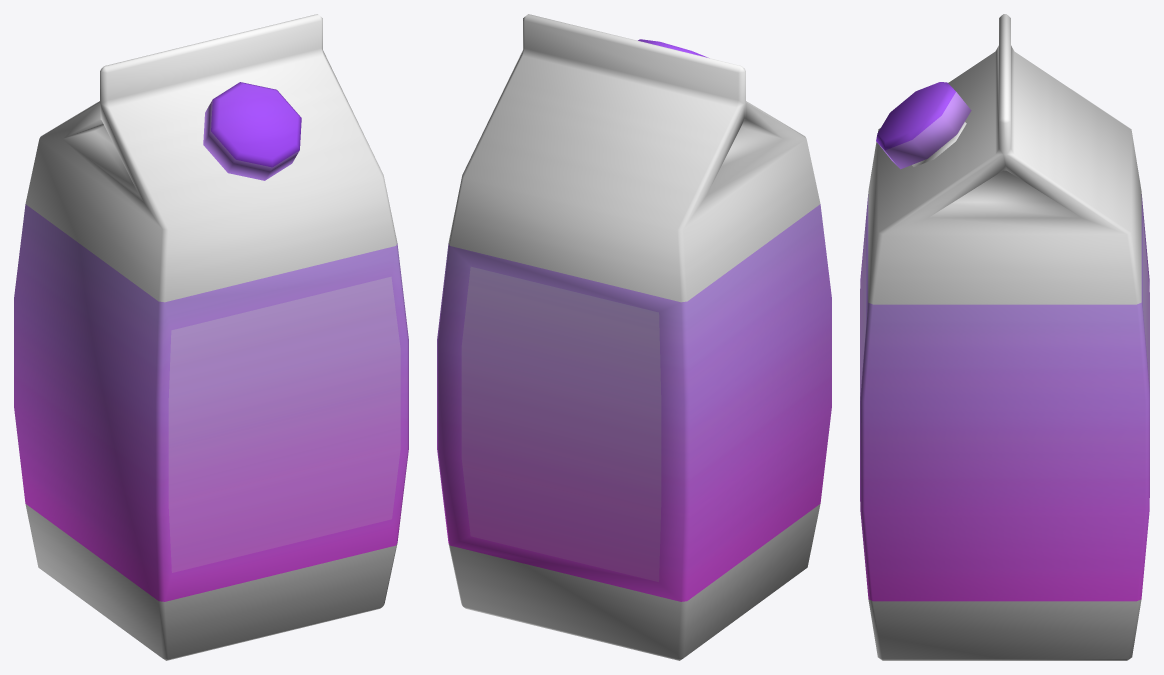
Rendered from SM_Milk_1.1.fbx.
3 views of the same model, side by side, from view 1: azimuth 30°, elevation 25°; view 2: azimuth 150°, elevation 25°; view 3: azimuth 270°, elevation 25° (orthographic).
Visible parts, largest first — view 1: SM_Milk_1.1; view 2: SM_Milk_1.1; view 3: SM_Milk_1.1.
Part boxes in pixels (bbox=[...]): SM_Milk_1.1: bbox=[14, 14, 408, 660]; SM_Milk_1.1: bbox=[437, 14, 831, 660]; SM_Milk_1.1: bbox=[860, 14, 1149, 660].
Size of the model in its own units: 14.1 by 29.21 by 14.11.
Materials: 1 (1 with a texture image).
